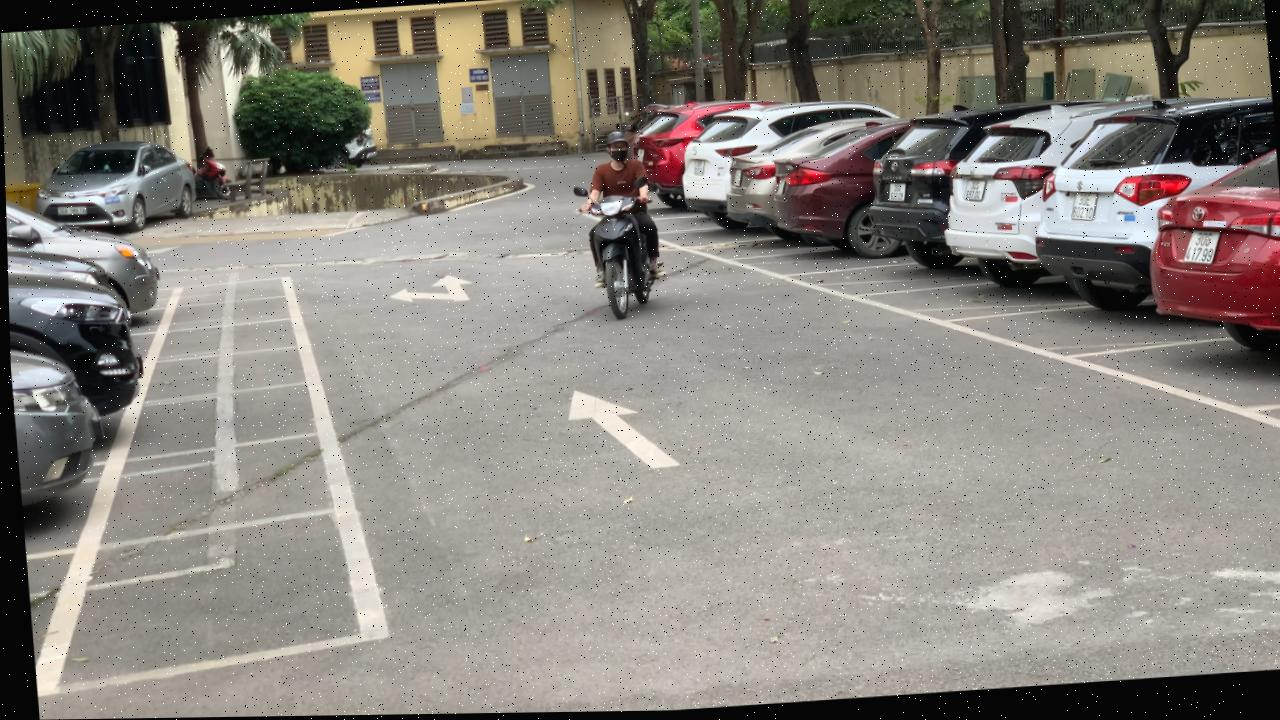helmet: (604, 131, 628, 148)
motorcyclist: (567, 129, 669, 323)
